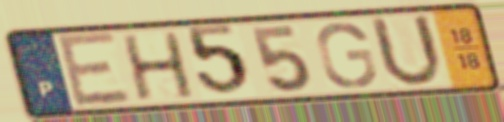5: (181, 23, 254, 102), (247, 23, 314, 95)
E: (52, 30, 135, 111)
G: (313, 20, 379, 90)
H: (118, 29, 199, 103)
U: (366, 13, 446, 91)
